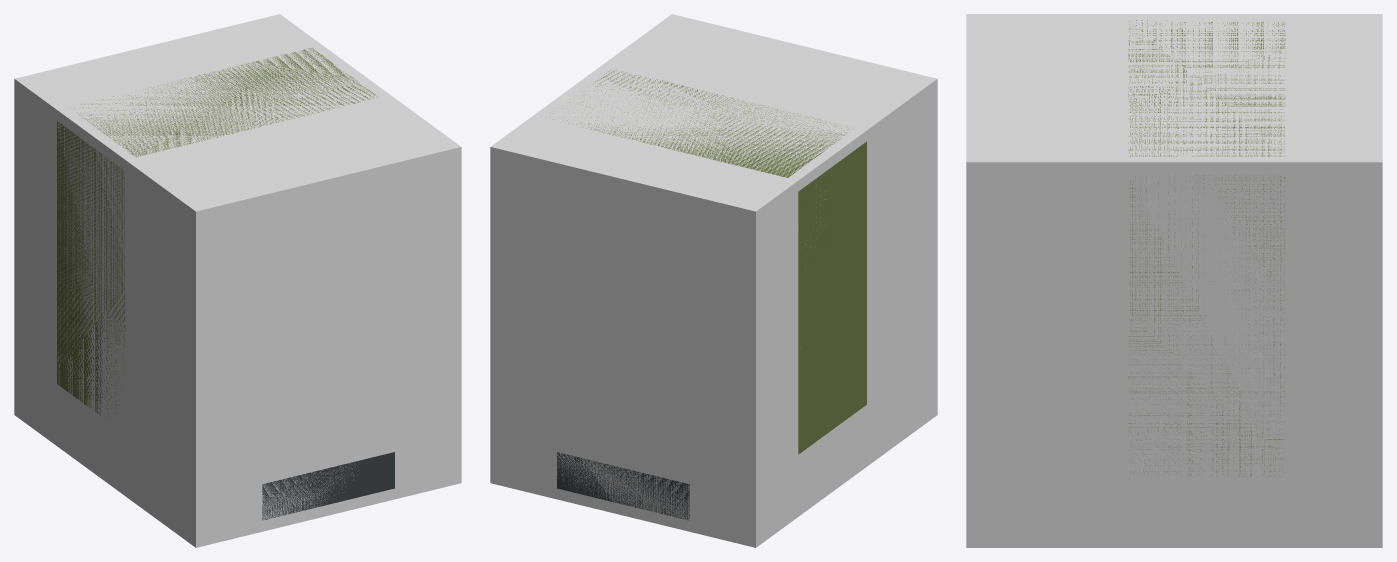
Rendered from shotgun_sight_reflex.glb.
3 views of the same model, side by side, from view 1: azimuth 30°, elevation 25°; view 2: azimuth 150°, elevation 25°; view 3: azimuth 270°, elevation 25° (orthographic). The views are drawn at different scales.
Parts seen in each view (by area): view 1: COL_part, sight; view 2: COL_part, sight; view 3: COL_part, sight.
Part boxes in pixels (x1,y1,x2,y2): COL_part: (14,14,461,547); sight: (57,48,394,520); COL_part: (490,14,937,547); sight: (557,69,866,520); COL_part: (966,14,1382,547); sight: (1128,20,1285,476).
Size of the model in its own units: 0.038 by 0.046 by 0.045.
